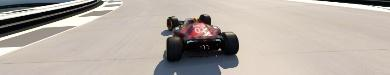Car: (165, 13, 239, 60)
obstacles-Borders: (0, 0, 103, 42)
